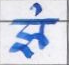anusvara: (33, 3, 41, 14)
